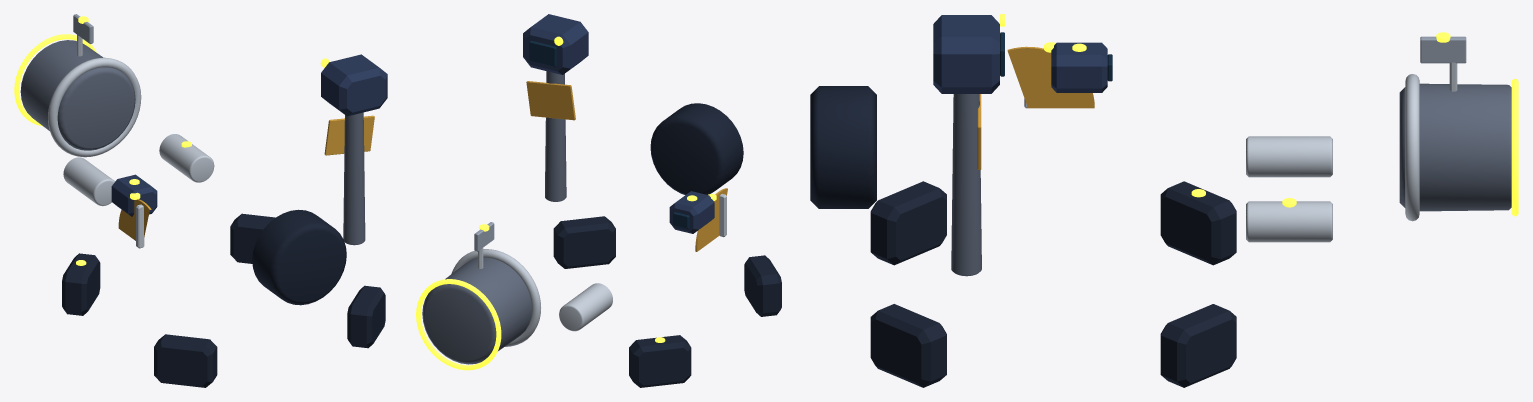
File: tower_nova_range_s8.glb
3 views of the same model, side by side, from view 1: azimuth 30°, elevation 25°; view 2: azimuth 150°, elevation 25°; view 3: azimuth 270°, elevation 25° (orthographic). The views are drawn at different scales.
Visible parts, largest first — view 1: nova_tube_extension, nova_counterweight, nova_spotter_head, nova_ballast3, nova_spotter_mast, nova_tube_collar, nova_ballast2, nova_ballast0, nova_recup_ext_l, nova_recup_ext_r, nova_ballast1, nova_cradle_optic (+5 smaller); view 2: nova_tube_extension, nova_counterweight, nova_ballast2, nova_ballast0, nova_spotter_head, nova_spotter_mast, nova_ballast3, nova_range_plate, nova_recup_ext_r, nova_tube_ext_glow, nova_tube_collar, nova_cradle_optic (+4 smaller); view 3: nova_tube_extension, nova_counterweight, nova_spotter_head, nova_spotter_mast, nova_ballast1, nova_ballast3, nova_ballast2, nova_ballast0, nova_recup_ext_r, nova_recup_ext_l, nova_quadrant_plate, nova_cradle_optic (+3 smaller).
Boxes of the visible parts, x1,y1,x2,y2 form: nova_tube_extension: [20, 40, 135, 150]; nova_counterweight: [252, 209, 346, 305]; nova_spotter_head: [321, 54, 387, 116]; nova_ballast3: [154, 334, 217, 387]; nova_spotter_mast: [343, 112, 365, 245]; nova_tube_collar: [48, 57, 141, 157]; nova_ballast2: [347, 285, 385, 348]; nova_ballast0: [62, 253, 100, 315]; nova_recup_ext_l: [159, 134, 214, 182]; nova_recup_ext_r: [63, 157, 114, 206]; nova_ballast1: [230, 213, 275, 263]; nova_cradle_optic: [111, 174, 157, 216]; nova_tube_extension: [422, 257, 531, 364]; nova_counterweight: [650, 103, 743, 194]; nova_ballast2: [553, 216, 615, 268]; nova_ballast0: [629, 335, 691, 387]; nova_spotter_head: [523, 14, 588, 74]; nova_spotter_mast: [545, 71, 566, 201]; nova_ballast3: [744, 255, 781, 316]; nova_range_plate: [526, 81, 575, 120]; nova_recup_ext_r: [559, 283, 612, 331]; nova_tube_ext_glow: [416, 279, 501, 370]; nova_tube_collar: [451, 249, 540, 346]; nova_cradle_optic: [669, 191, 714, 233]; nova_tube_extension: [1399, 83, 1511, 211]; nova_counterweight: [810, 86, 876, 208]; nova_spotter_head: [933, 15, 999, 93]; nova_spotter_mast: [951, 94, 981, 276]; nova_ballast1: [1160, 304, 1236, 387]; nova_ballast3: [870, 181, 946, 265]; nova_ballast2: [870, 304, 946, 387]; nova_ballast0: [1160, 181, 1236, 265]; nova_recup_ext_r: [1246, 136, 1332, 177]; nova_recup_ext_l: [1246, 201, 1332, 242]; nova_quadrant_plate: [1007, 46, 1094, 108]; nova_cradle_optic: [1051, 42, 1107, 92].
Size of the model in its own units: 1.49 by 1.53 by 2.76.
